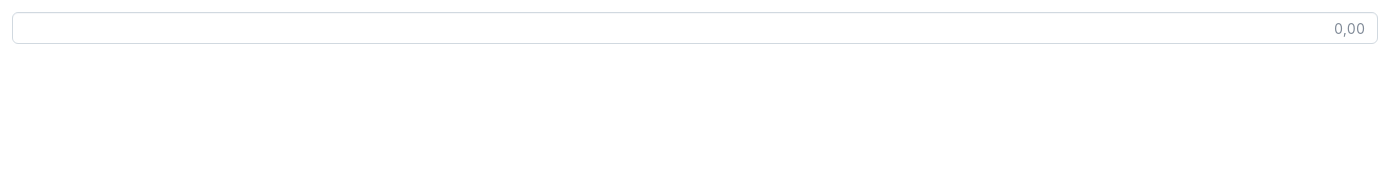
Test: MoneyInput › converte il testo in centesimi e blocca caratteri non validi
Type "1.234,5x" into the field named "importo".
click(695, 28); type("1.234,5x")  # box top-left (12, 12), bottom-right (1378, 44)
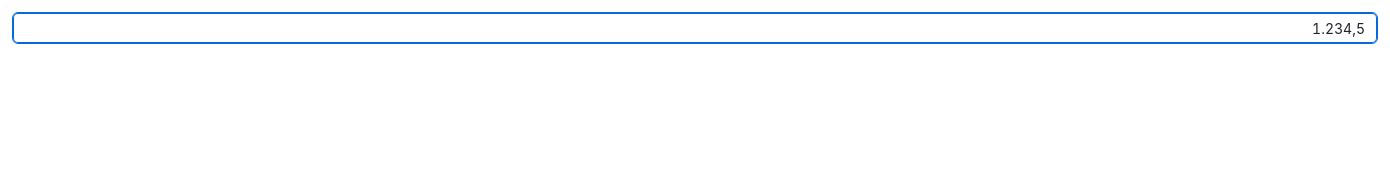
Expected: the field named "importo" holds "1.234,5", top-left (12, 12), bottom-right (1378, 44)
